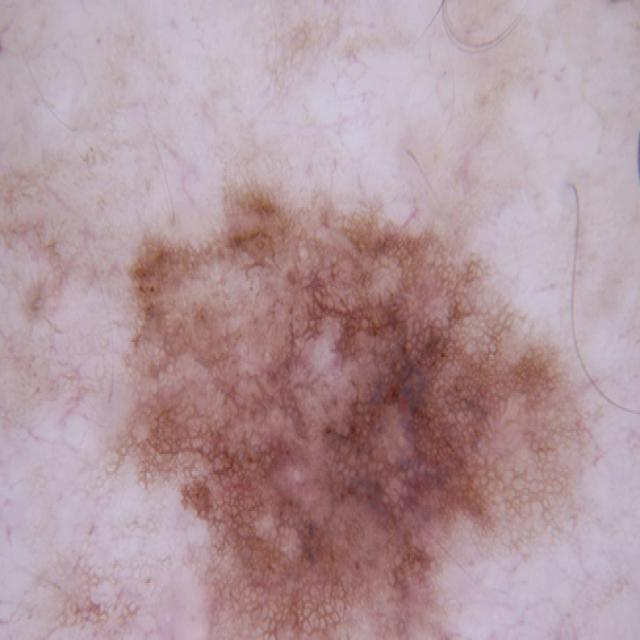Keratosis: (119, 176, 598, 640)
